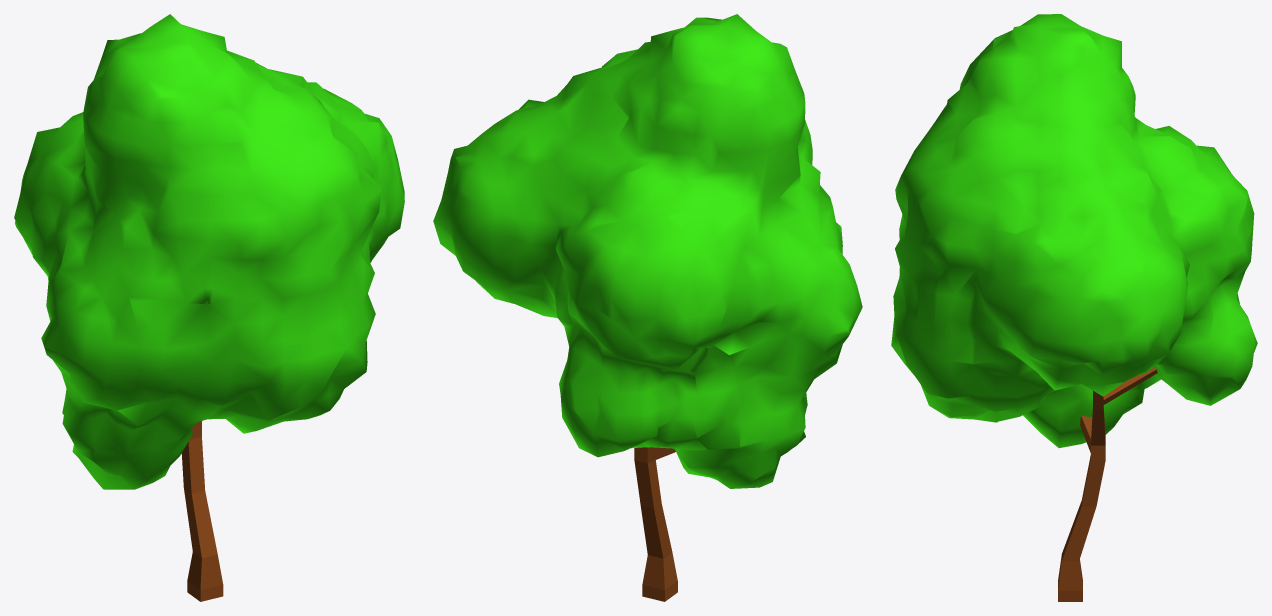
File: SM_OrangeTree_001.fbx
3 renders of one model, left to right at view 1: azimuth 30°, elevation 25°; view 2: azimuth 150°, elevation 25°; view 3: azimuth 270°, elevation 25°, orthographic. The views are drawn at different scales.
Visible parts, largest first — view 1: OrangeTree_01; view 2: OrangeTree_01; view 3: OrangeTree_01.
Part boxes in pixels (<box>): OrangeTree_01: <box>14,14,404,601</box>; OrangeTree_01: <box>433,14,862,601</box>; OrangeTree_01: <box>891,14,1257,601</box>.
Bounding box in the file's own units: 186 × 276 × 167.
